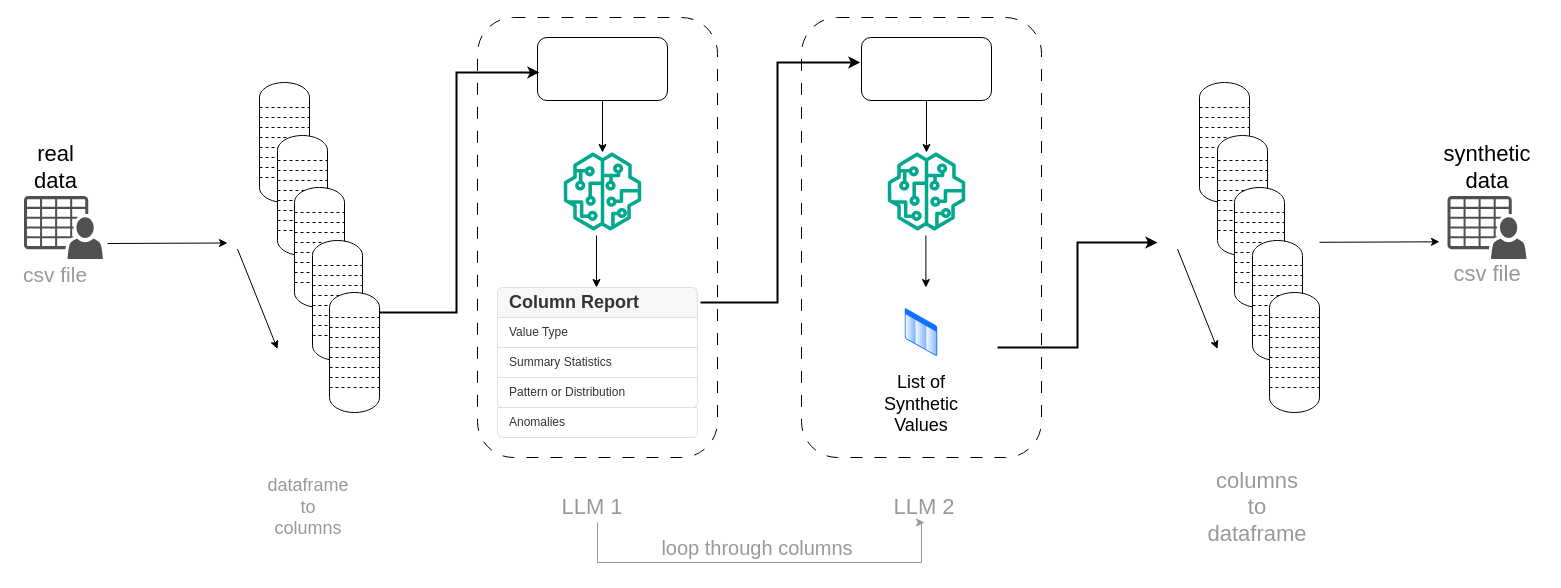
Image size: 1561x588. Some labels were removed from this diagram. Here are the shapes that lost their labels. From the top down, the centre of each, then its label:
pixel 602 68: Column Profiler Prompt
pixel 926 68: Column Profiler Report
